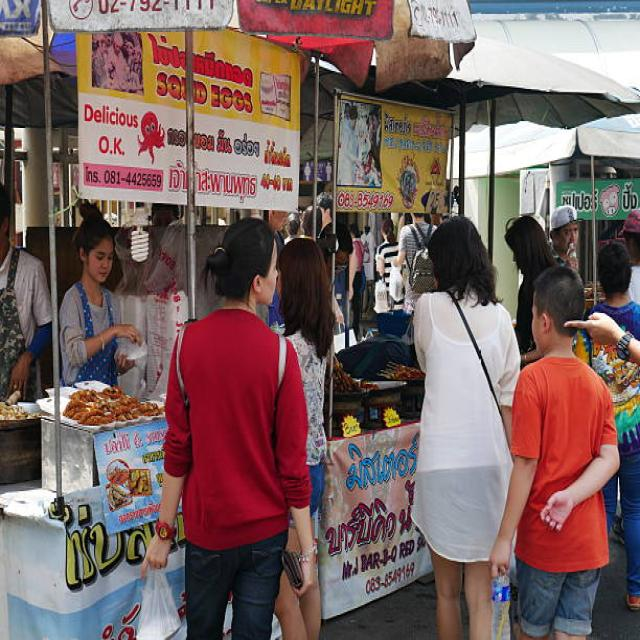Emperan: (0, 0, 344, 640), (302, 71, 508, 640)
